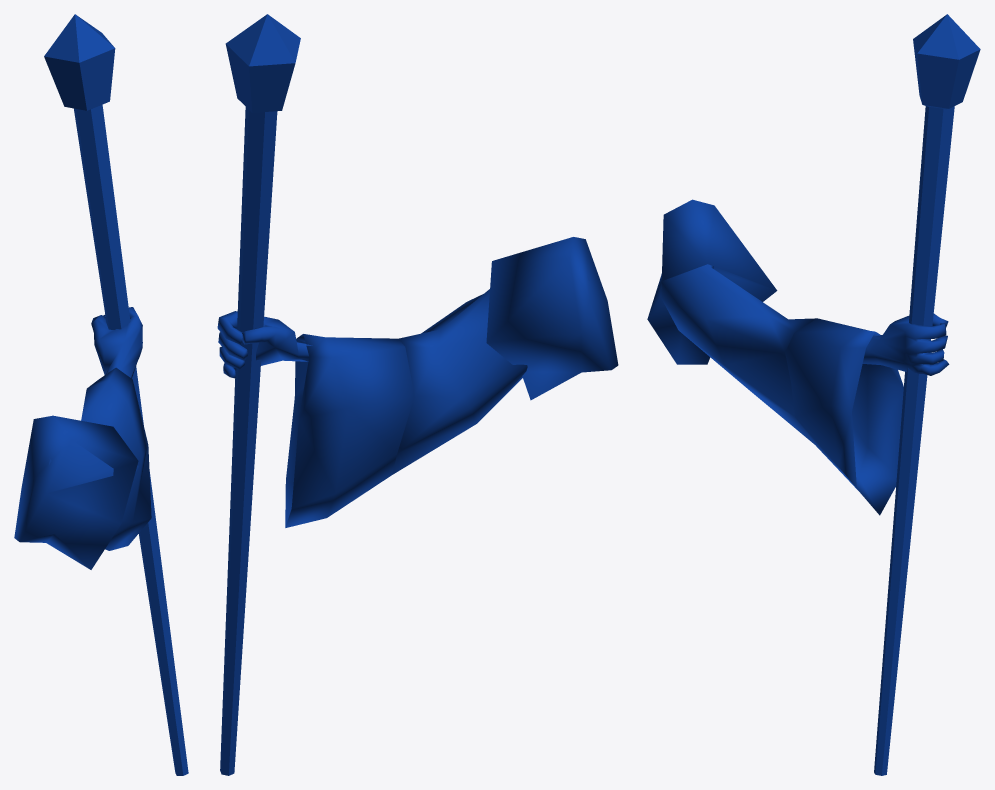
Rendered from arm_000061.obj.
3 renders of one model, left to right at view 1: azimuth 30°, elevation 25°; view 2: azimuth 150°, elevation 25°; view 3: azimuth 270°, elevation 25°, orthographic. The views are drawn at different scales.
Parts seen in each view (by area): view 1: Wizard.002_Plane.000; view 2: Wizard.002_Plane.000; view 3: Wizard.002_Plane.000.
Boxes of the visible parts, x1,y1,x2,y2 form: Wizard.002_Plane.000: [14, 14, 188, 775]; Wizard.002_Plane.000: [217, 14, 618, 775]; Wizard.002_Plane.000: [647, 14, 980, 775].
Bounding box in the file's own units: 0.6561 × 1.75 × 0.7264.
